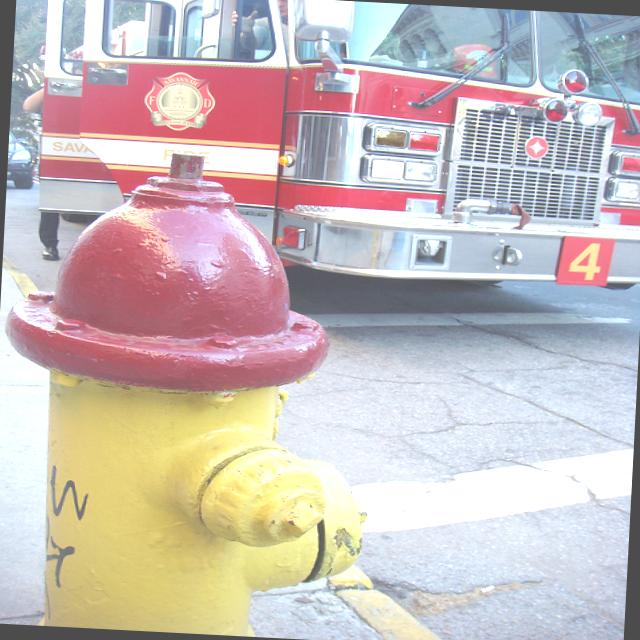Vehicle: (32, 0, 640, 294), (6, 130, 36, 190)
